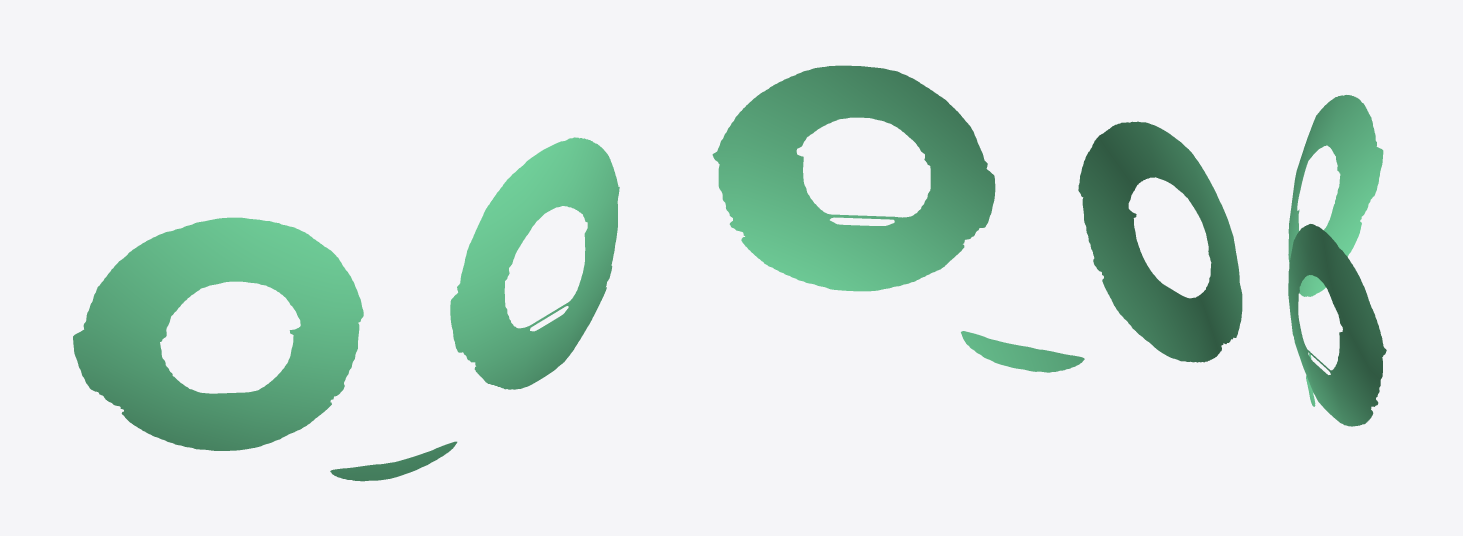
The model's file is Smile Robot Face.fbx.
3 views of the same model, side by side, from view 1: azimuth 30°, elevation 25°; view 2: azimuth 150°, elevation 25°; view 3: azimuth 270°, elevation 25° (orthographic). The views are drawn at different scales.
Parts seen in each view (by area): view 1: Smile Robot; view 2: Smile Robot; view 3: Smile Robot.
Boxes of the visible parts, <box> form: Smile Robot: <box>73,137,619,481</box>; Smile Robot: <box>712,65,1242,372</box>; Smile Robot: <box>1288,95,1386,426</box>.
Bounding box in the file's own units: 49.48 × 28.28 × 14.43.
